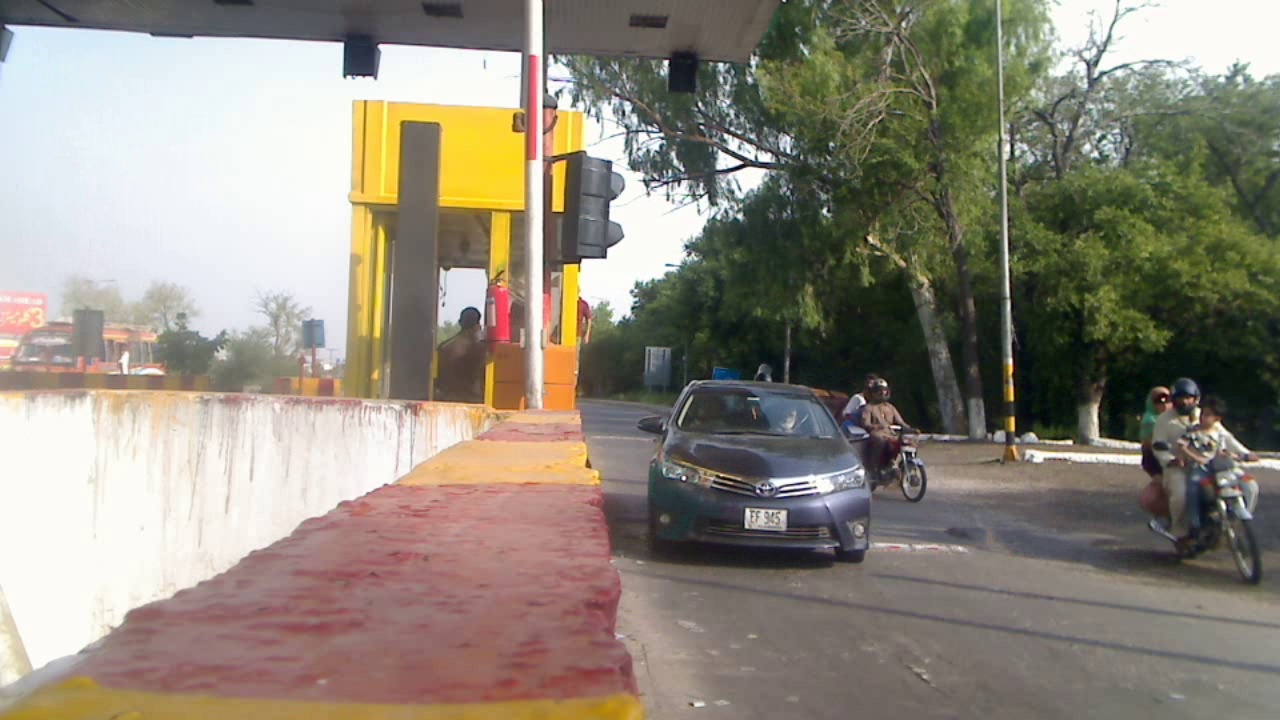Number Plate (Car): (746, 507, 786, 528)
